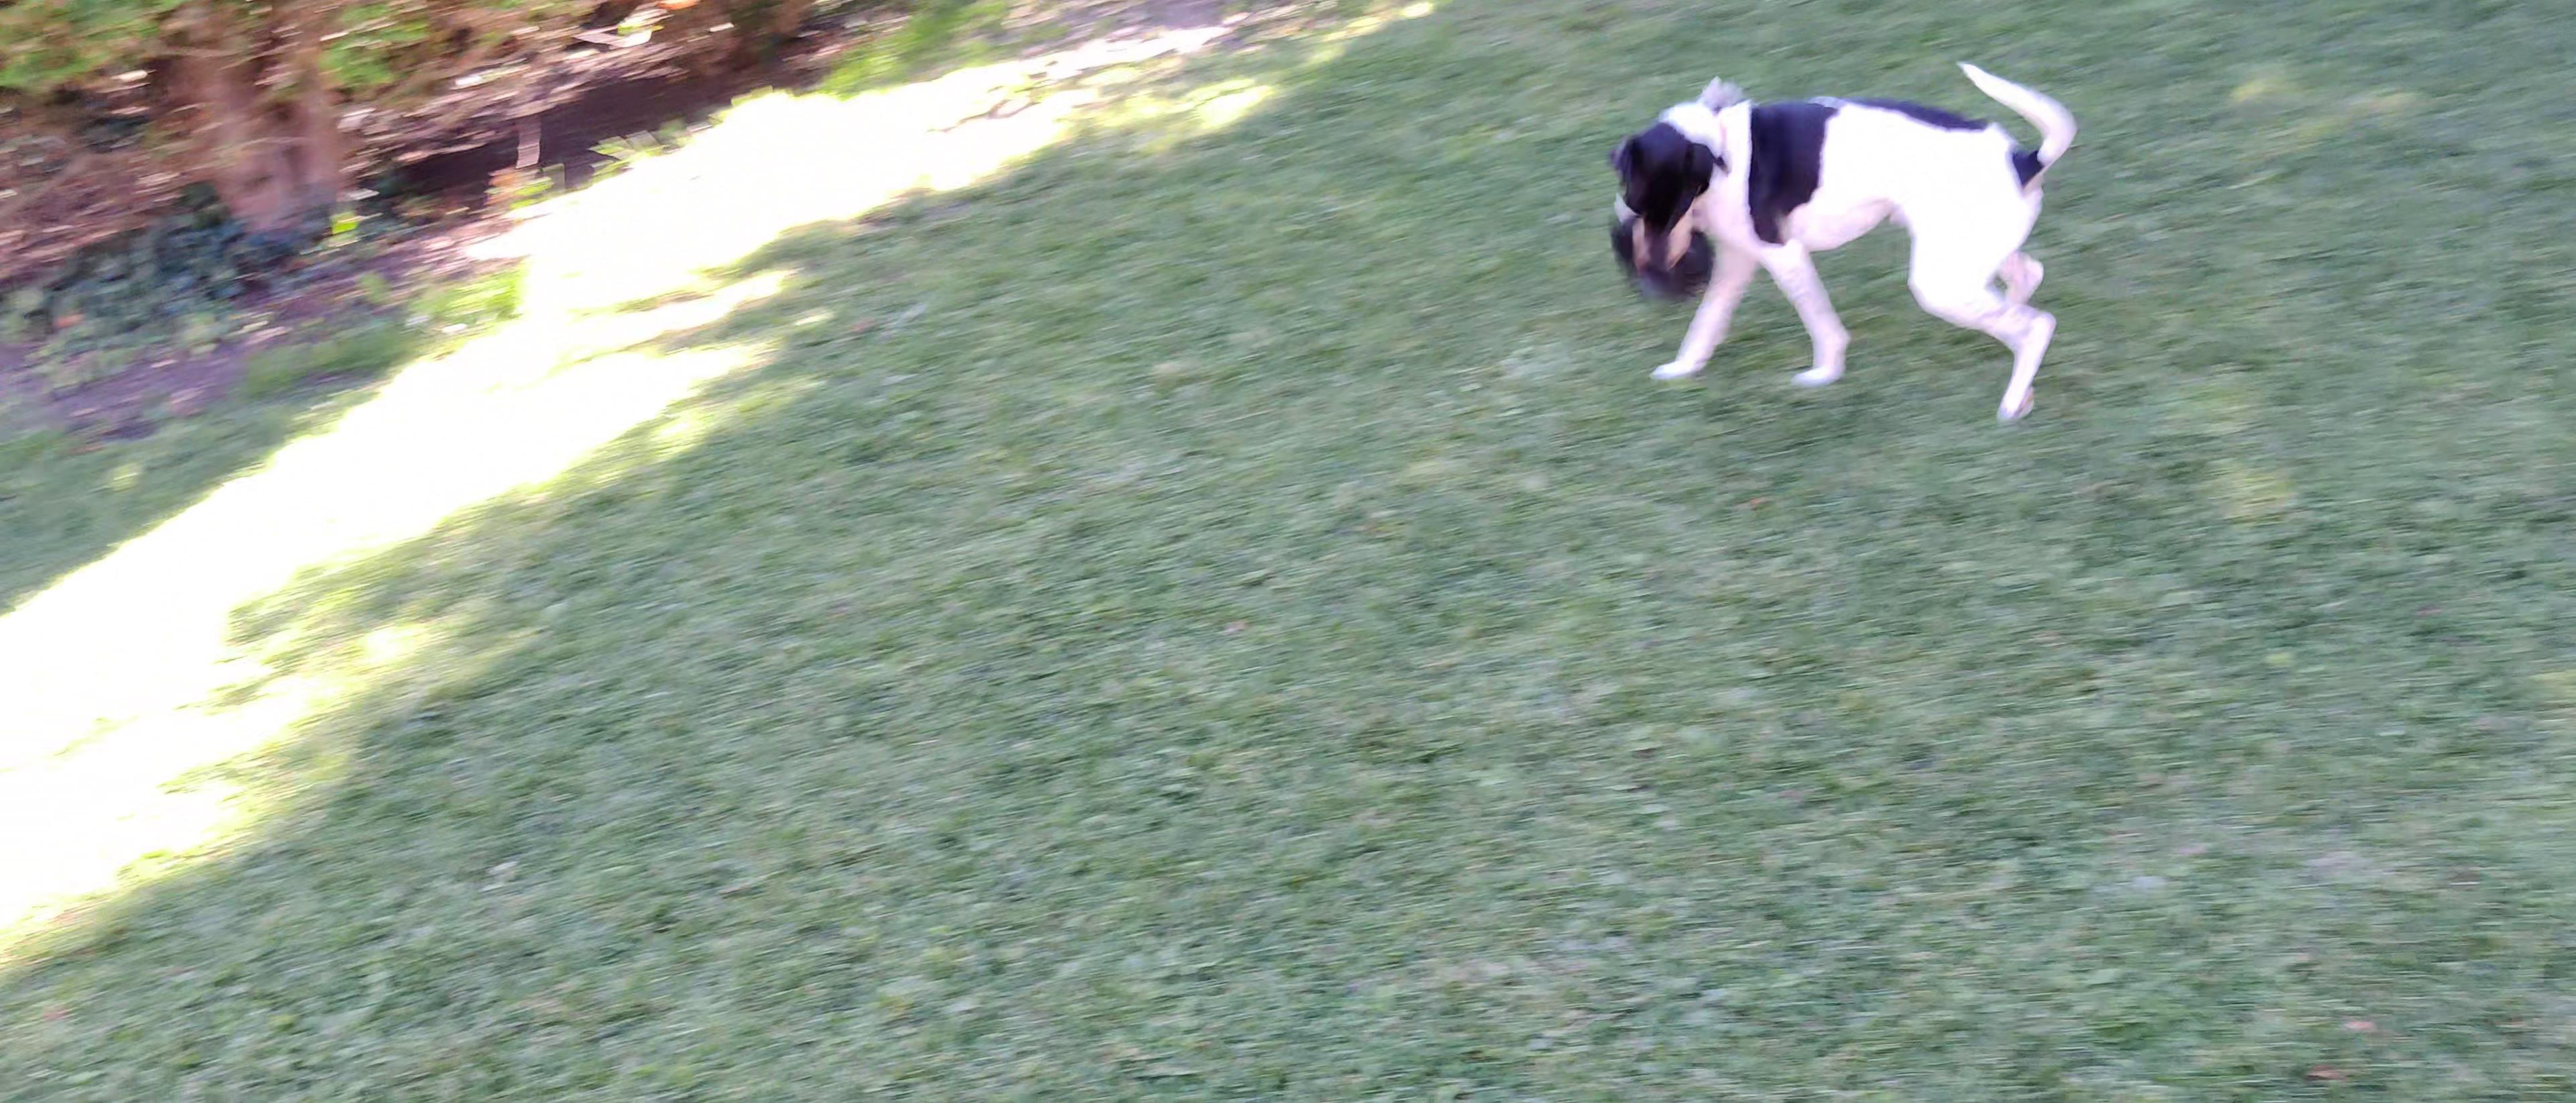Dog: (1589, 49, 2098, 422)
